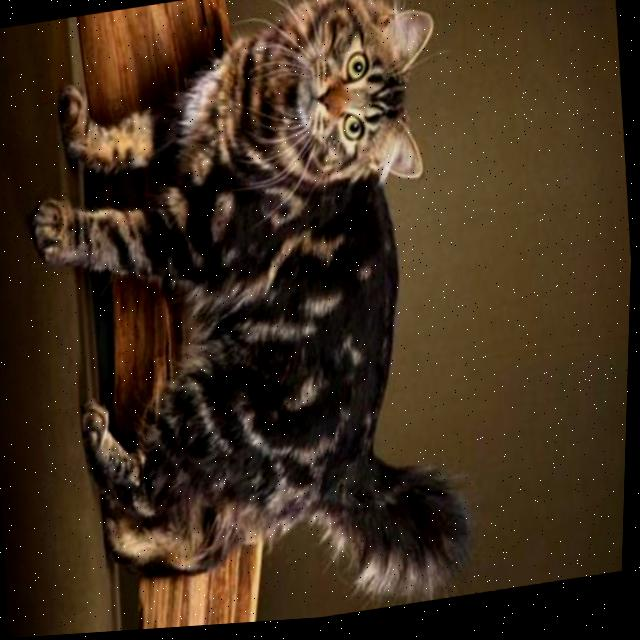American Bobtail: (5, 0, 491, 639)
